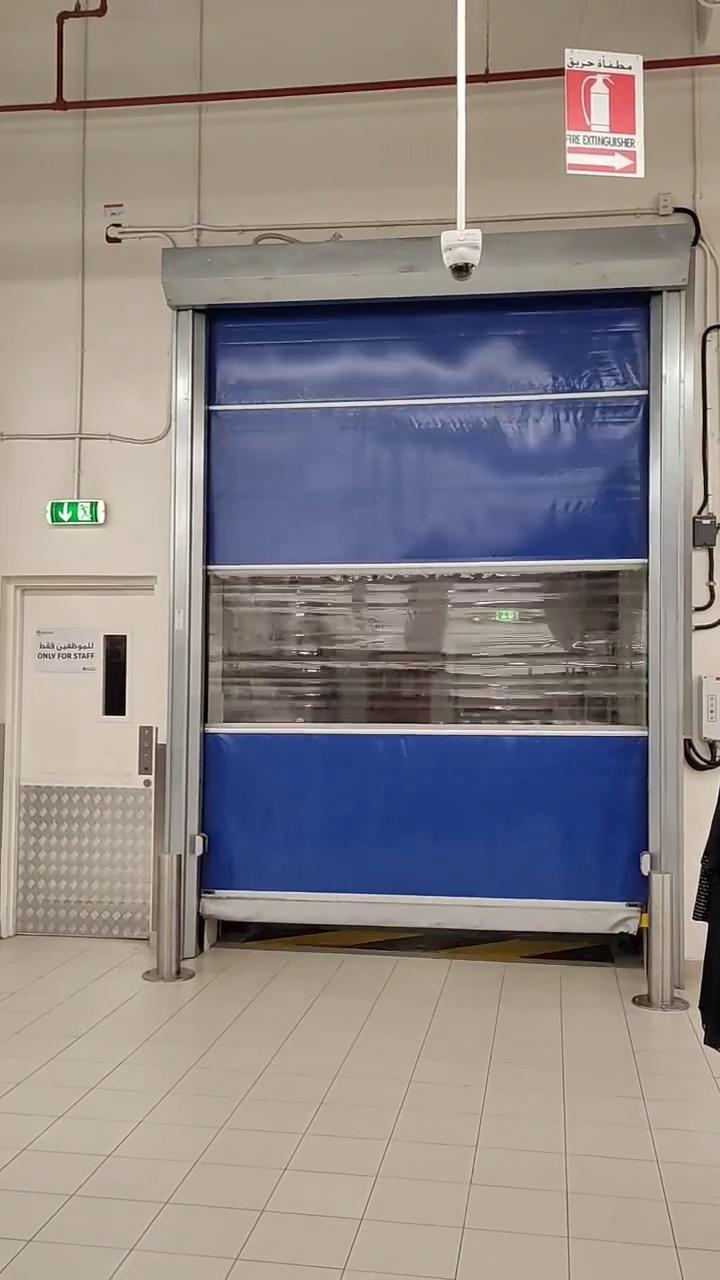Strip: (231, 920, 609, 973)
